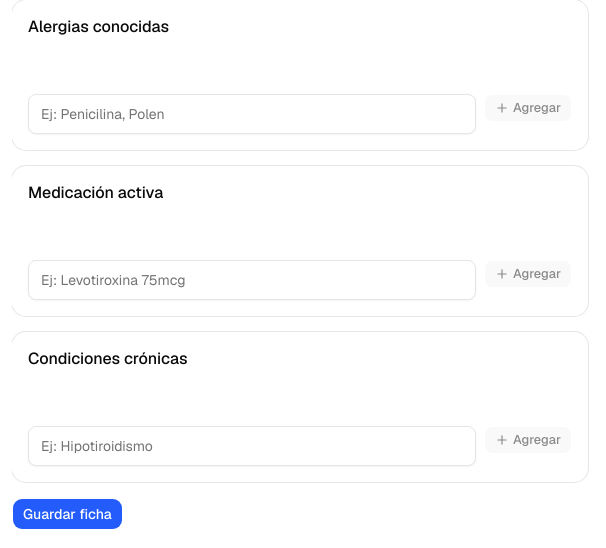
Test: HealthTab › renders chips with an X remove button
The image size is (606, 548).
Type "Polen" into the field named "nueva entrada de alergias". click: (252, 114)
box: [28,94,476,134]
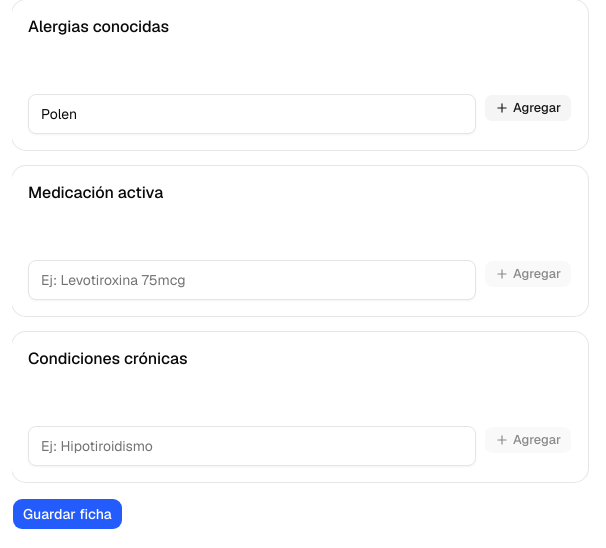
Click the button with aria-label "agregar alergias". click: click(528, 108)
box: [484,94,572,122]
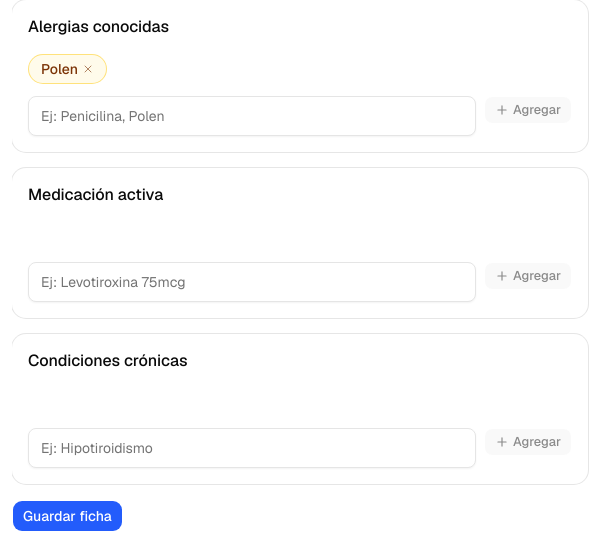
Expected: the button named "quitar Polen" is shown, [82,63,94,75]
